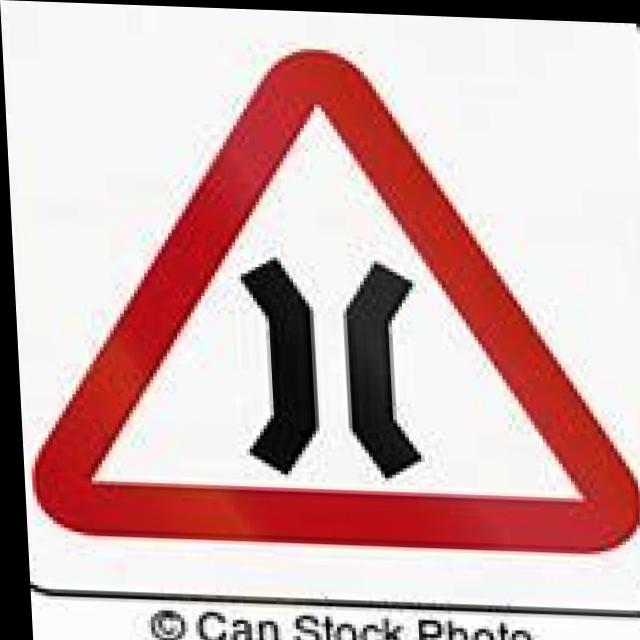NARROW_BRIDGE: (8, 36, 640, 556)
